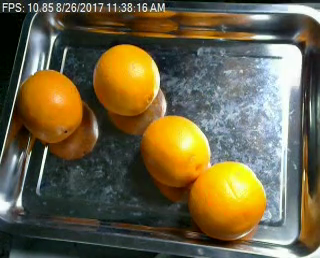Orange: (190, 159, 267, 240), (141, 114, 210, 185), (93, 44, 161, 116), (17, 70, 82, 144)
